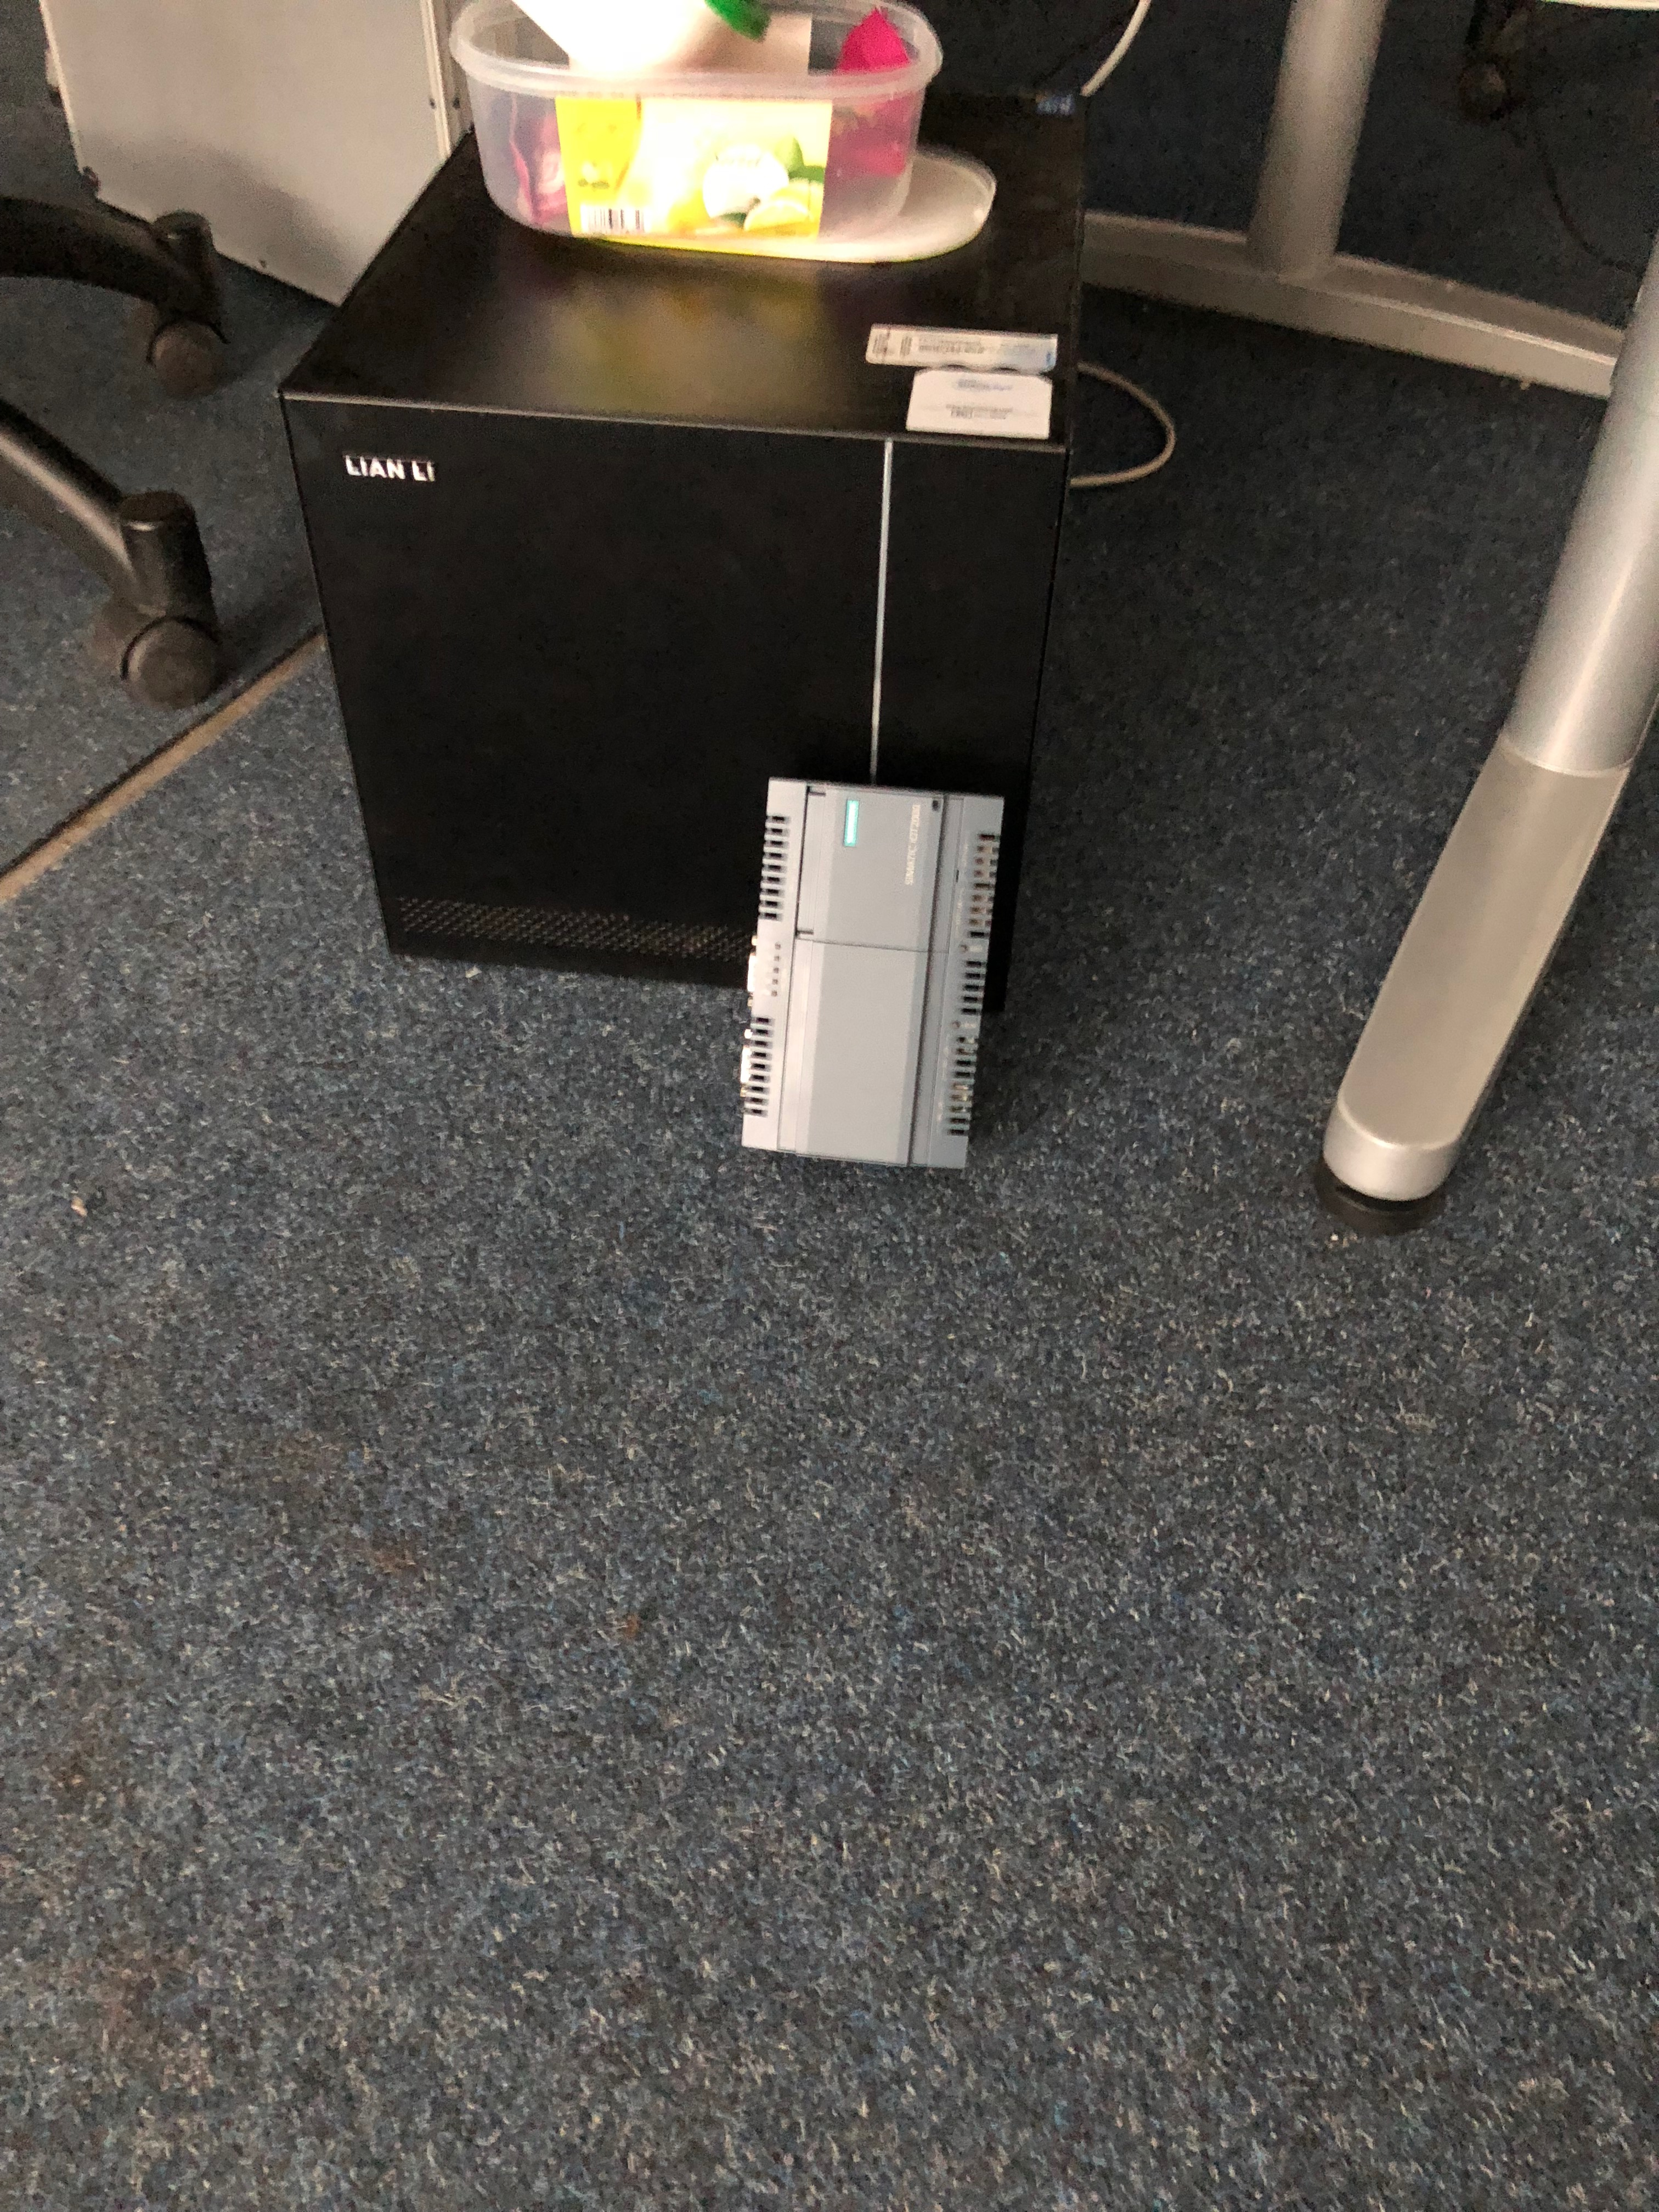device: (739, 779, 1004, 1170)
